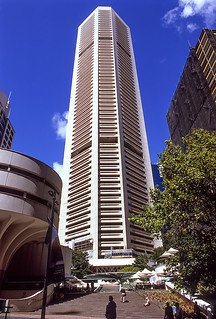medium: (56, 5, 167, 277)
